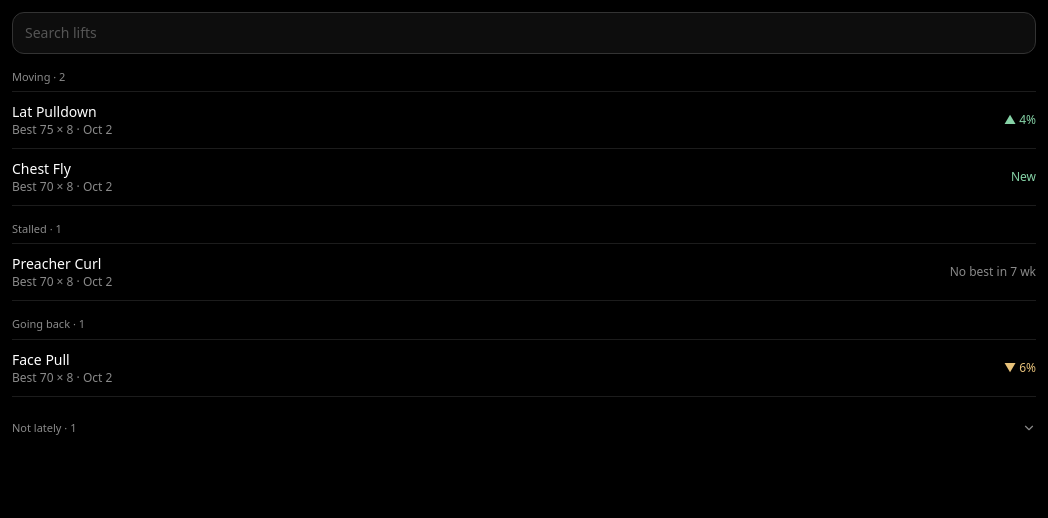
Test case: Stats, the overview › folds lifts not trained lately away, and unfolds them on tap
Check: the text "Seated Row (old)" is not shown
Click the button "Not lately · 1" at (41, 427), box left=12, top=413, right=1036, bottom=443
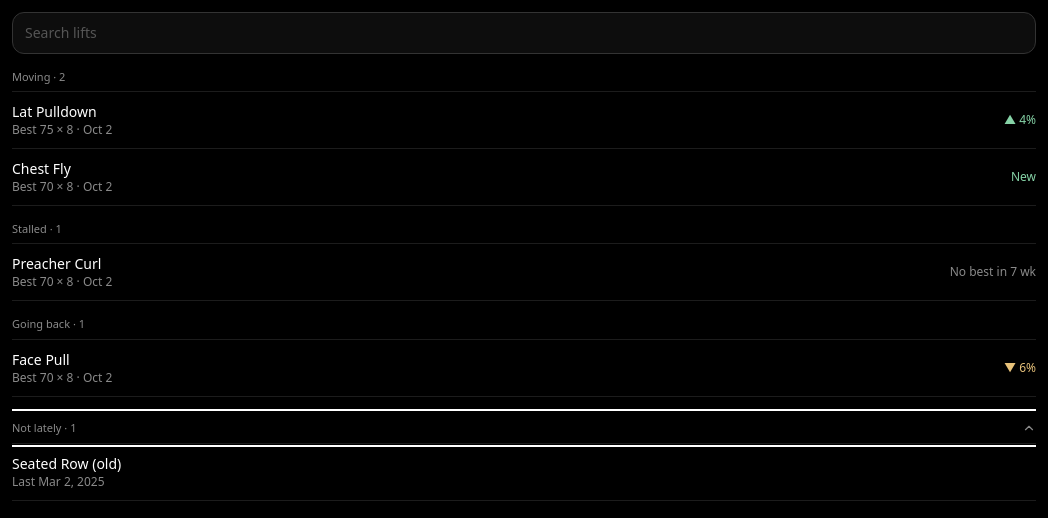
Check: the text "Seated Row (old)" is shown, box left=12, top=454, right=121, bottom=473
Check: the text "Last Mar 2, 2025" is shown, box left=12, top=473, right=105, bottom=490
